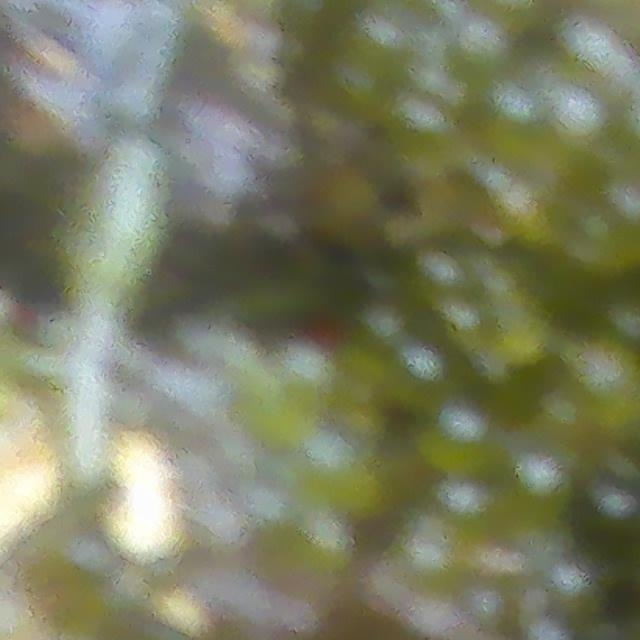SeaGrape: (550, 86, 606, 144)
